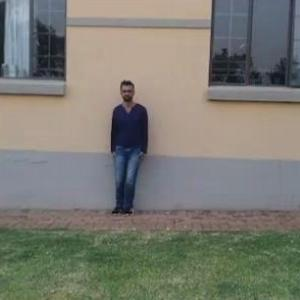follow: (109, 77, 150, 216)
